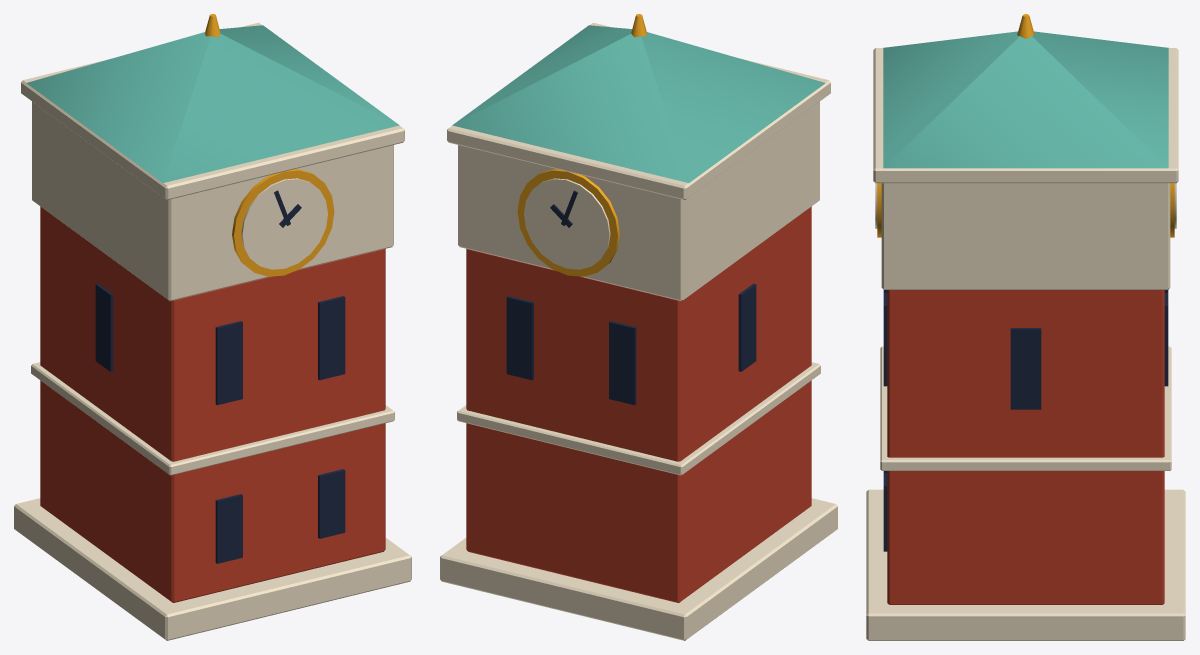
File: clock_tower.glb
3 views of the same model, side by side, from view 1: azimuth 30°, elevation 25°; view 2: azimuth 150°, elevation 25°; view 3: azimuth 270°, elevation 25° (orthographic). The views are drawn at different scales.
Visible parts, largest first — view 1: shaft, roof, clock_housing, base, cornice, clock_face_front, belt_course, clock_rim_front, slit_zp_r, slit_zp_l, door_slit_l, door_slit_r (+1 smaller); view 2: shaft, roof, clock_housing, base, cornice, clock_face_back, belt_course, clock_rim_back, slit_zm_r, slit_zm_l, slit_x_l; view 3: shaft, roof, clock_housing, base, cornice, belt_course, slit_x_r, slit_zp_r, slit_zm_r.
Boxes of the visible parts, x1,y1,x2,y2 form: shaft: (40,206,385,602); roof: (26,25,399,182); clock_housing: (32,101,393,301); base: (14,498,411,640); cornice: (21,22,404,200); clock_face_front: (241,178,327,269); belt_course: (31,362,394,475); clock_rim_front: (232,169,334,276); slit_zp_r: (318,296,345,380); slit_zp_l: (215,321,242,405); door_slit_l: (215,494,242,563); door_slit_r: (318,469,345,538); shaft: (466,206,811,602); roof: (452,25,825,182); clock_housing: (458,101,819,301); base: (440,498,837,640); cornice: (447,22,830,200); clock_face_back: (524,178,610,269); belt_course: (457,362,820,475); clock_rim_back: (517,169,619,276); slit_zm_r: (506,296,533,380); slit_zm_l: (609,321,636,405); slit_x_l: (738,283,756,371); shaft: (887,290,1164,604); roof: (883,31,1168,168); clock_housing: (881,183,1170,289); base: (866,489,1185,640); cornice: (873,48,1178,183); belt_course: (880,346,1171,470); slit_x_r: (1010,328,1041,409); slit_zp_r: (883,293,887,386); slit_zm_r: (1164,293,1168,386).
Size of the model in its own units: 5.3 by 11.1 by 5.7.
